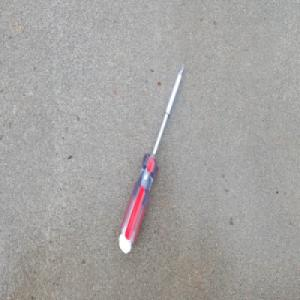Screwdriver: (118, 63, 185, 255)
